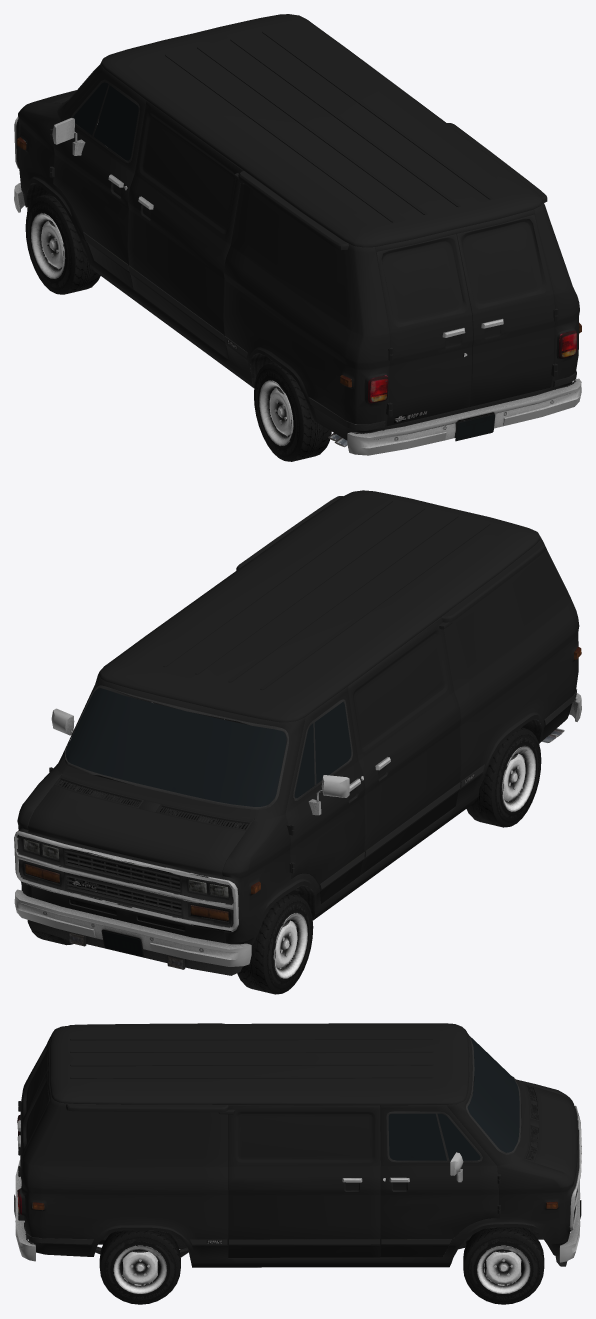
The model's file is shvan_van.glb.
3 renders of one model, top to bottom at view 1: azimuth 30°, elevation 25°; view 2: azimuth 150°, elevation 25°; view 3: azimuth 270°, elevation 25°, orthographic. The views are drawn at different scales.
Visible parts, largest first — view 1: Body, Trim, WheelRL, WheelFL, LightsFront, LightsRear, Glass; view 2: Body, Trim, LightsFront, WheelFL, WheelRL, Interior, Glass; view 3: Body, LightsFront, Trim, WheelFR, WheelRR.
Boxes of the visible parts, x1=… form: Body: x1=16, y1=14, x2=579, y2=440; Trim: x1=14, y1=66, x2=581, y2=455; WheelRL: x1=254, y1=361, x2=331, y2=461; WheelFL: x1=25, y1=193, x2=100, y2=294; LightsFront: x1=73, y1=82, x2=138, y2=160; LightsRear: x1=368, y1=330, x2=577, y2=403; Glass: x1=456, y1=414, x2=495, y2=440; Body: x1=17, y1=490, x2=579, y2=947; Trim: x1=14, y1=646, x2=581, y2=975; LightsFront: x1=23, y1=688, x2=351, y2=921; WheelFL: x1=237, y1=893, x2=313, y2=994; WheelRL: x1=466, y1=727, x2=541, y2=827; Interior: x1=101, y1=929, x2=143, y2=956; Glass: x1=102, y1=930, x2=142, y2=956; Body: x1=18, y1=1023, x2=579, y2=1267; LightsFront: x1=388, y1=1036, x2=519, y2=1160; Trim: x1=14, y1=1034, x2=581, y2=1267; WheelFR: x1=463, y1=1227, x2=544, y2=1304; WheelRR: x1=99, y1=1230, x2=180, y2=1304.
Size of the model in its own units: 8.16 by 6.69 by 17.
10 materials, 8 textured.
